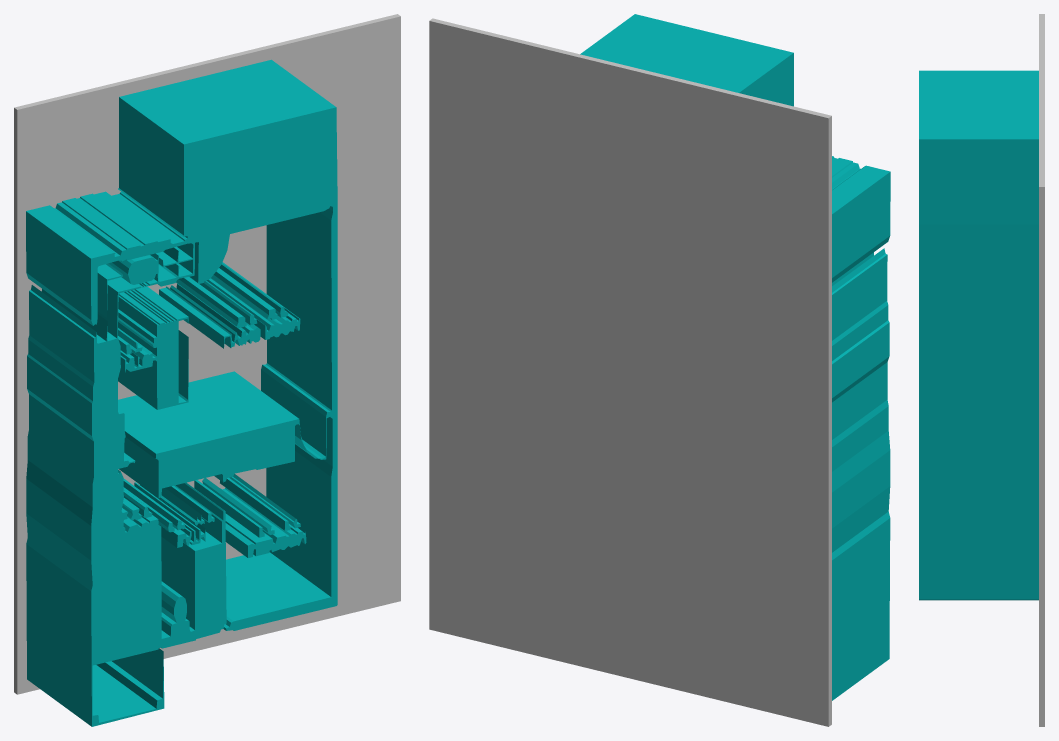
3 renders of one model, left to right at view 1: azimuth 30°, elevation 25°; view 2: azimuth 150°, elevation 25°; view 3: azimuth 270°, elevation 25°, orthographic. The views are drawn at different scales.
Visible parts, largest first — view 1: world; view 2: world; view 3: world.
Boxes of the visible parts, x1,y1,x2,y2 form: world: (14, 14, 400, 726); world: (429, 14, 890, 726); world: (919, 14, 1044, 726).
Size of the model in its own units: 10.23 by 14.9 by 3.15.
